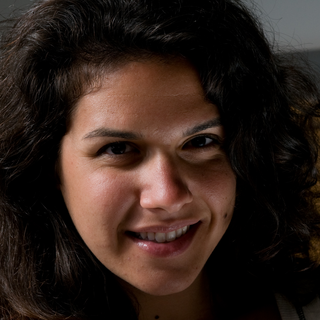eye: (91, 139, 141, 164), (183, 129, 224, 155)
